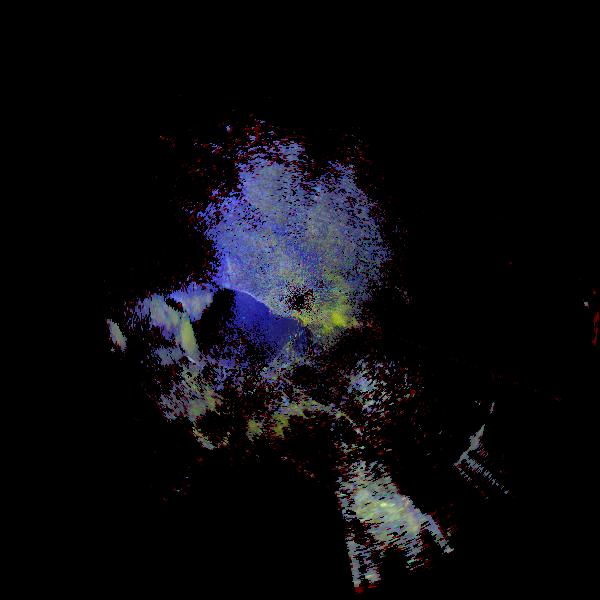roost: (110, 286, 218, 394)
